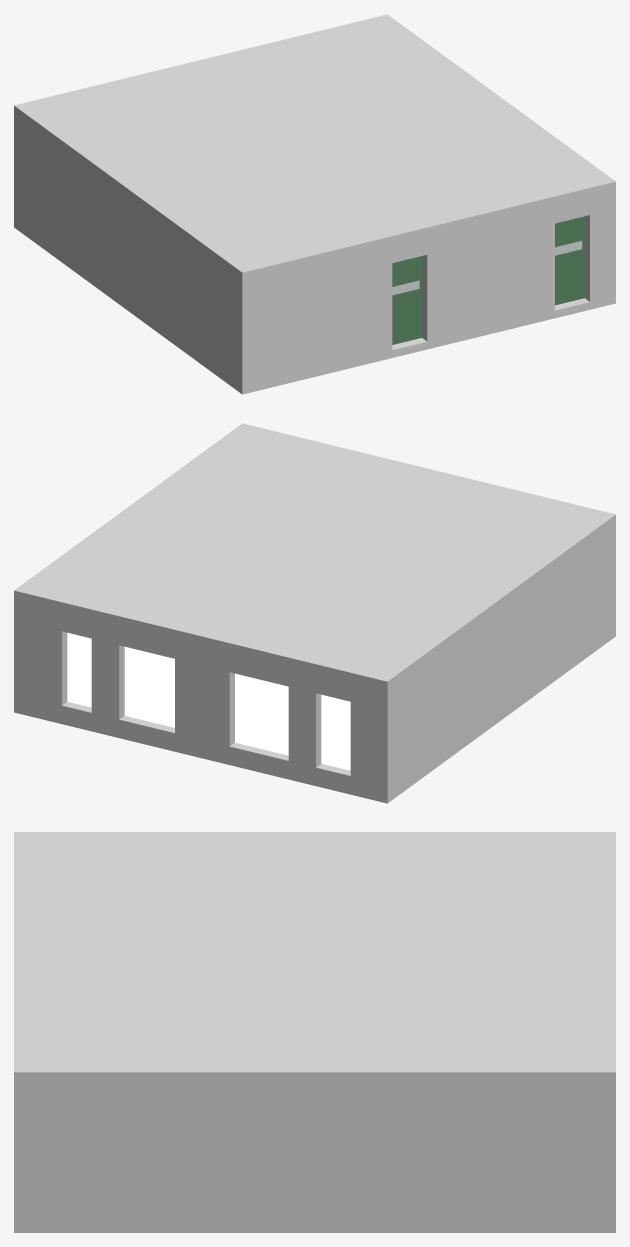
The model's file is room.glb.
The picture shows the model from 3 angles, top to bottom: view 1: azimuth 30°, elevation 25°; view 2: azimuth 150°, elevation 25°; view 3: azimuth 270°, elevation 25°; orthographic projection. The views are drawn at different scales.
Visible parts, largest first — view 1: room; view 2: room; view 3: room.
Boxes of the visible parts, x1,y1,x2,y2 form: room: (14, 14, 615, 394); room: (14, 423, 615, 803); room: (14, 832, 615, 1232).
Size of the model in its own units: 10.1 by 3.15 by 10.7.
